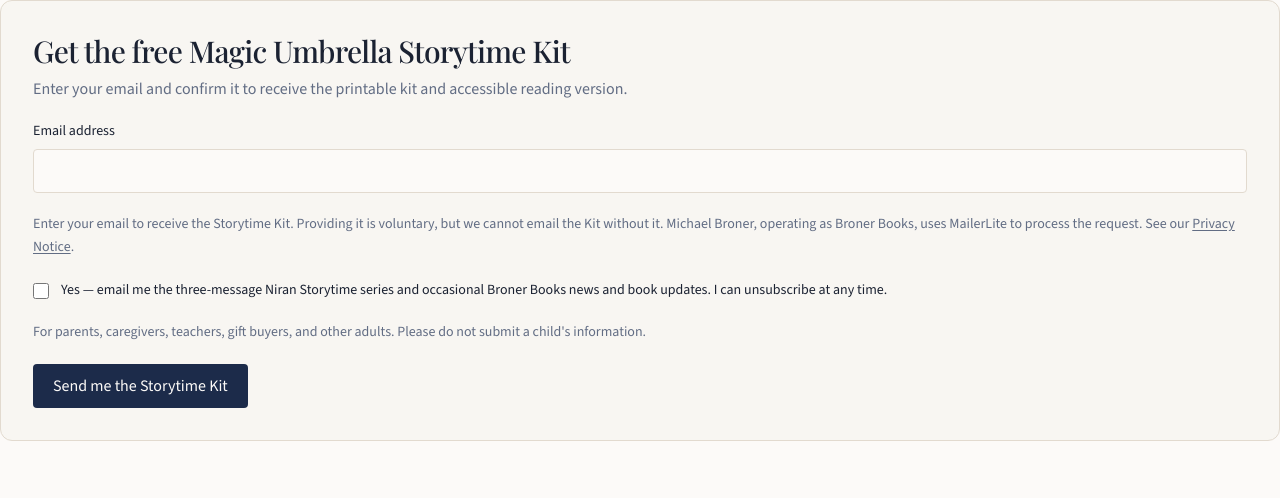
it: Niran Storytime first-party signup form › keeps the submit button disabled and blocks duplicate submissions in flight
This screenshot has width=1280, height=498.
Type "person@example.test" into the field labelled "Email address" at (640, 171), box [33,149,1247,193]
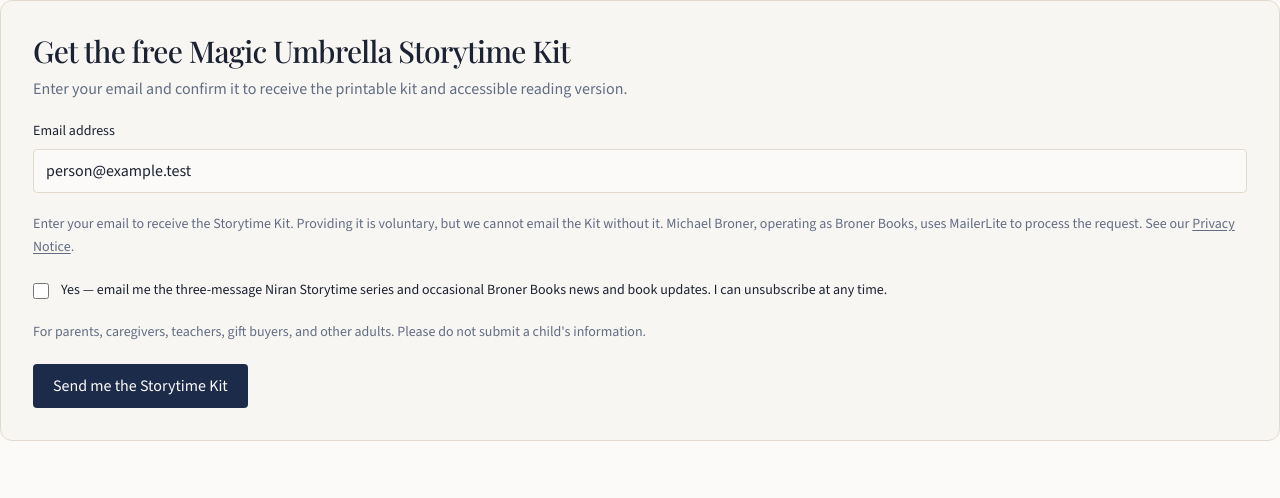
Click the button "Send me the Storytime Kit" at (140, 386), box [33,364,248,408]
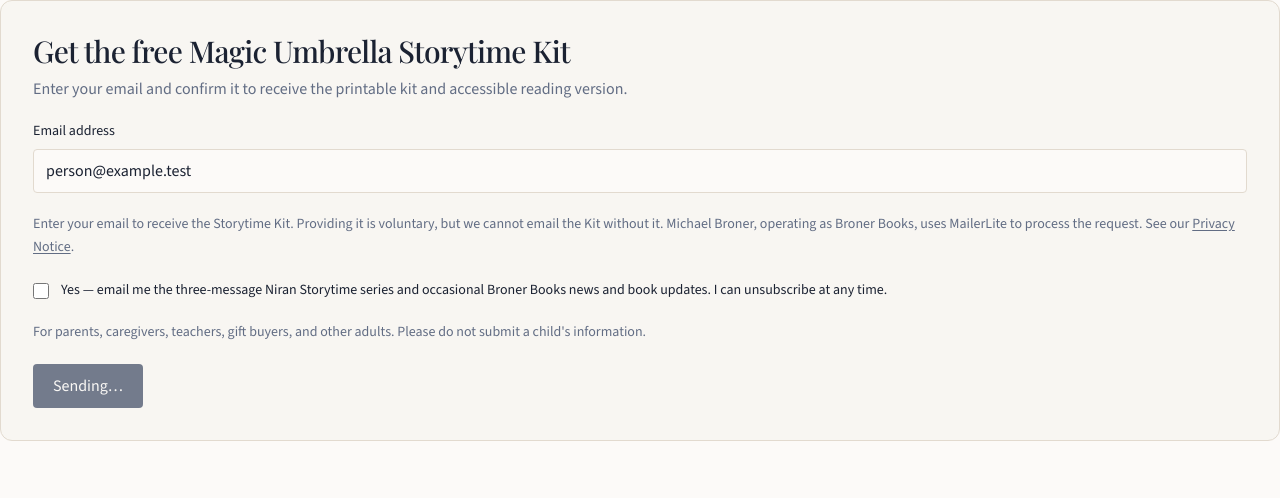
Expected: the button "Sending…" is disabled
Click the button "Sending…" at (88, 386), box [33,364,143,408]
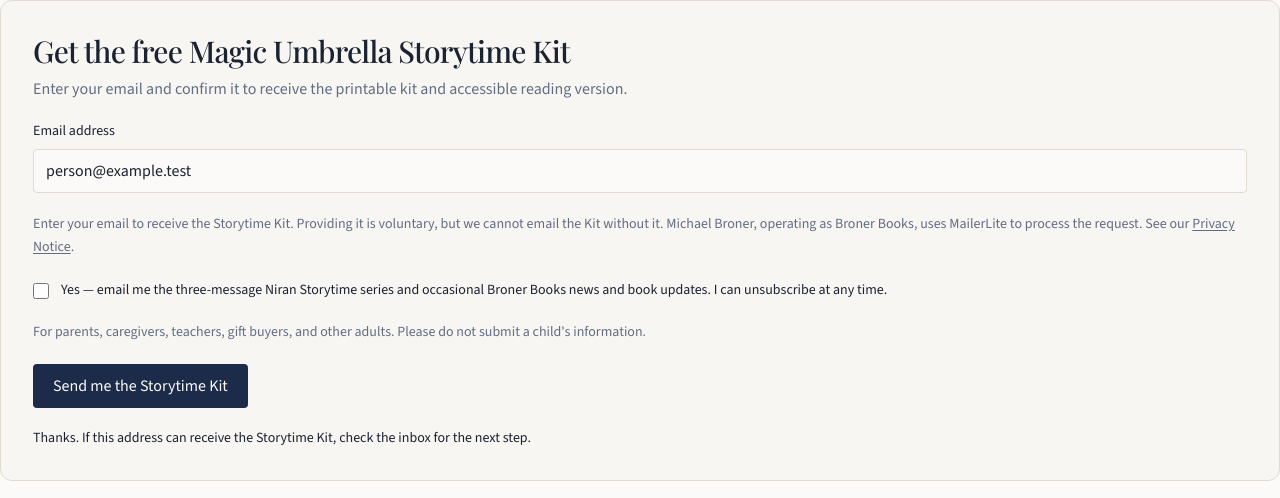
Expected: the message is shown, [33,428,531,447]
